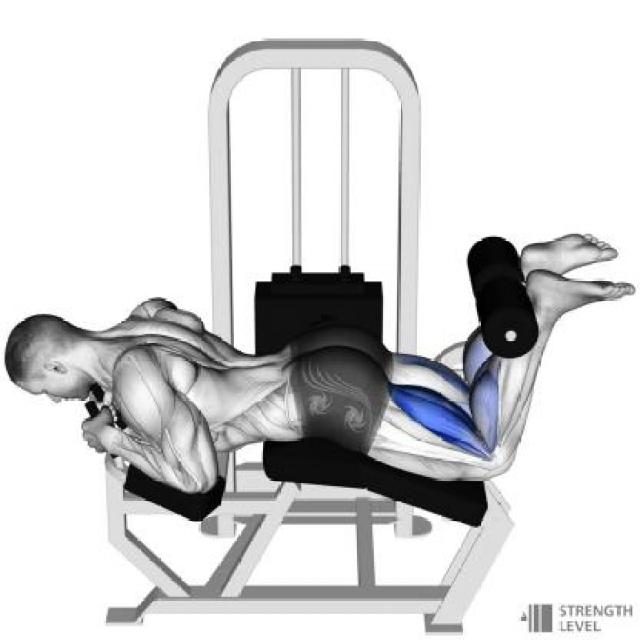reg curl machine: (6, 31, 632, 640)
